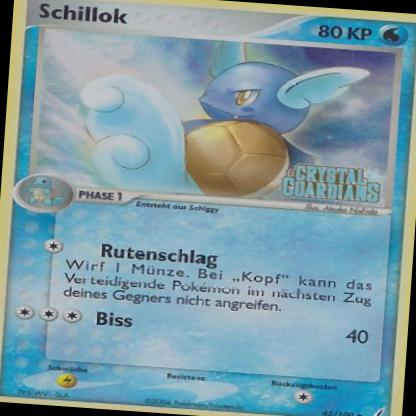Wartortle: (76, 40, 344, 203)
